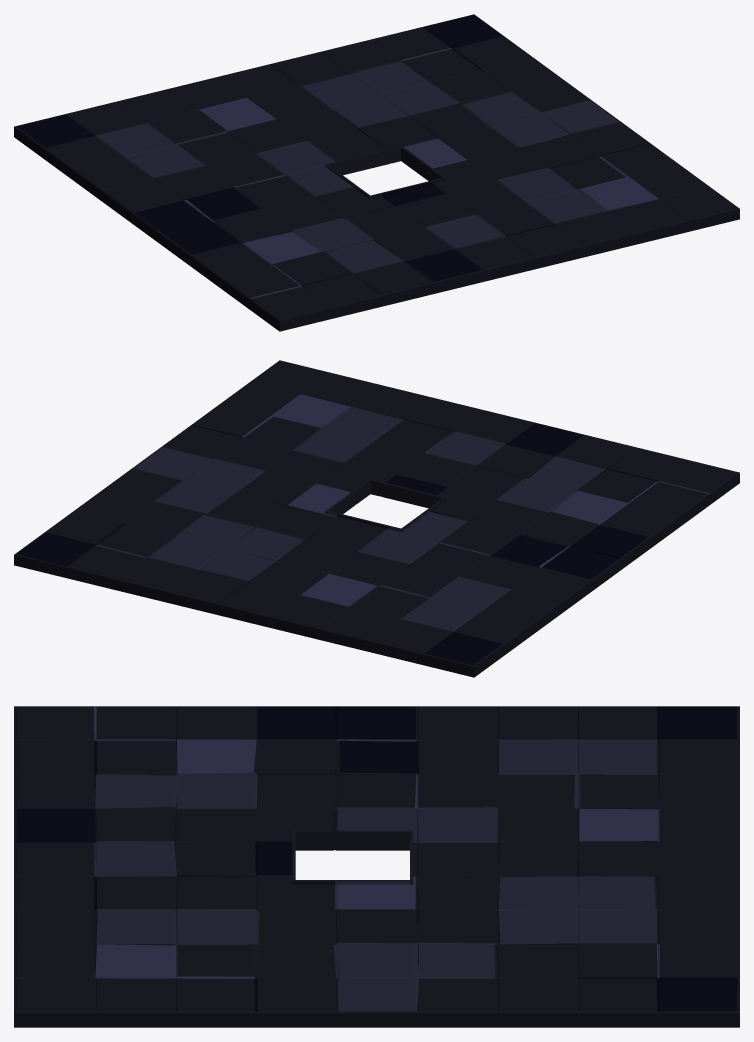
File: floor with a hole.fbx
The picture shows the model from 3 angles, top to bottom: view 1: azimuth 30°, elevation 25°; view 2: azimuth 150°, elevation 25°; view 3: azimuth 270°, elevation 25°; orthographic projection. The views are drawn at different scales.
Parts seen in each view (by area): view 1: floor with a hole; view 2: floor with a hole; view 3: floor with a hole.
Part boxes in pixels (<box>): floor with a hole: <box>14,14,739,331</box>; floor with a hole: <box>14,360,739,677</box>; floor with a hole: <box>14,706,739,1027</box>.
Size of the model in its own units: 600 by 17.64 by 600.
